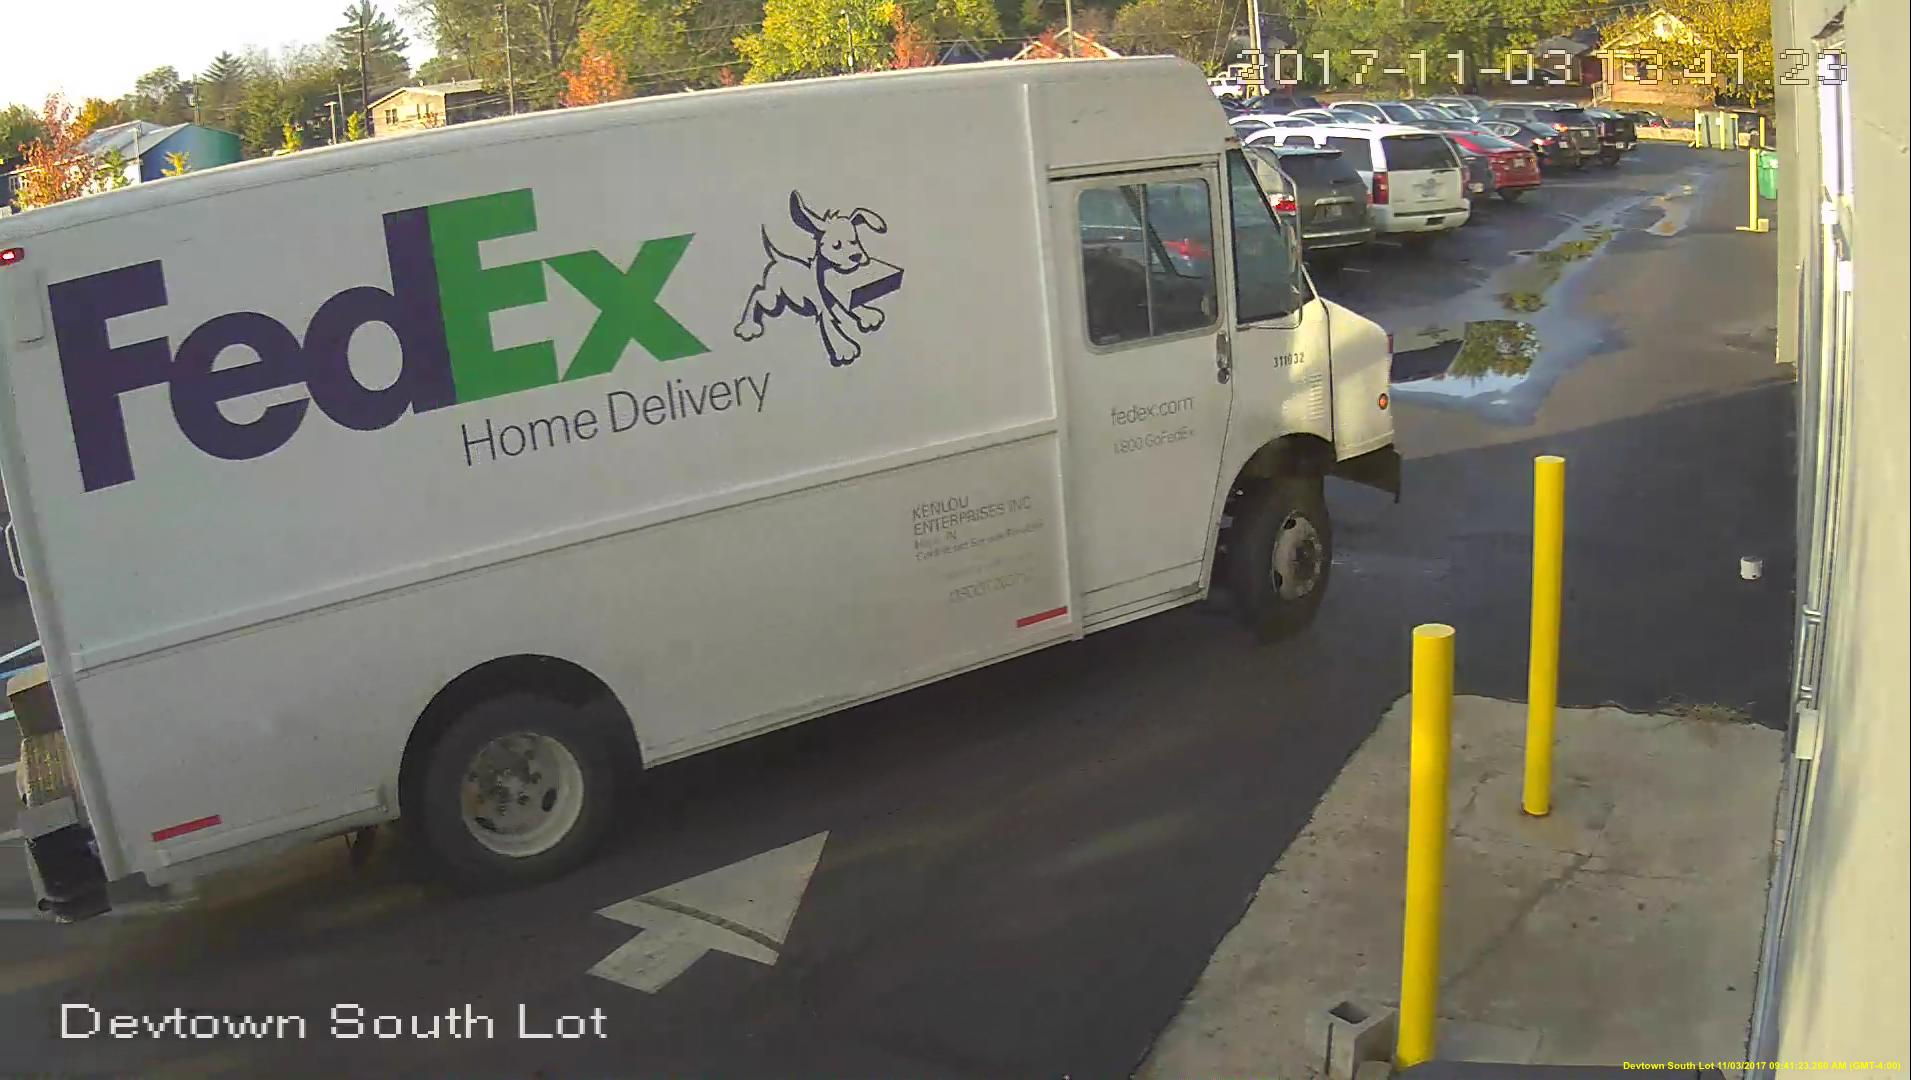fedex_truck: (7, 54, 1398, 926)
